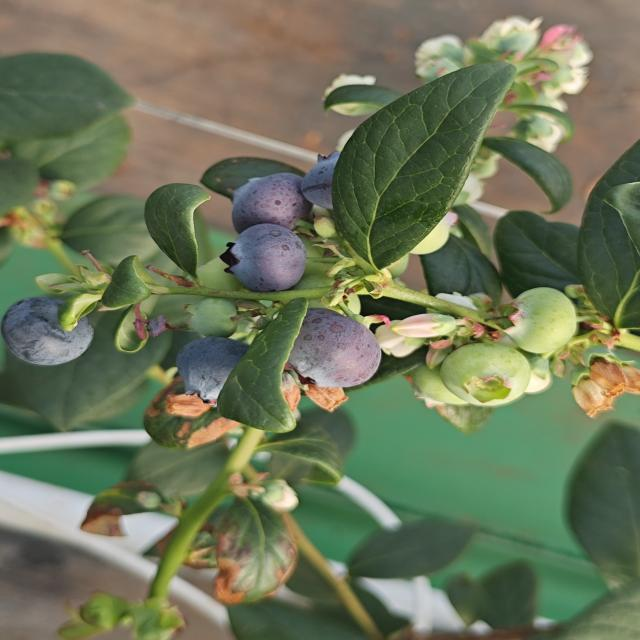ripe: (282, 306, 384, 391), (1, 295, 97, 369), (220, 222, 310, 294), (173, 335, 253, 407), (228, 171, 312, 235), (300, 144, 369, 211)
